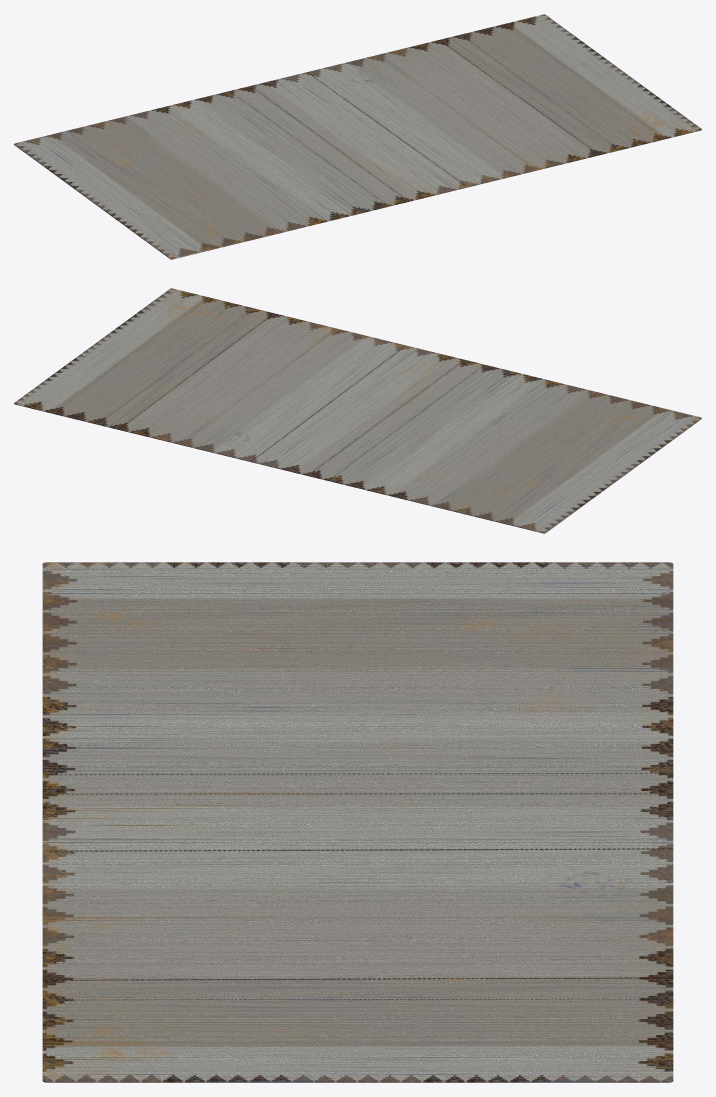
File: rug_dailyart.glb
3 views of the same model, one above another, from view 1: azimuth 30°, elevation 25°; view 2: azimuth 150°, elevation 25°; view 3: azimuth 270°, elevation 25° (orthographic). The views are drawn at different scales.
Parts seen in each view (by area): view 1: Object_12.168; view 2: Object_12.168; view 3: Object_12.168.
Boxes of the visible parts, left/top/right/bottom form: Object_12.168: left=14, top=14, right=701, bottom=259; Object_12.168: left=14, top=288, right=701, bottom=533; Object_12.168: left=42, top=562, right=673, bottom=1082.
Size of the model in its own units: 382 by 0.5578 by 196.
1 material, 1 textured.
